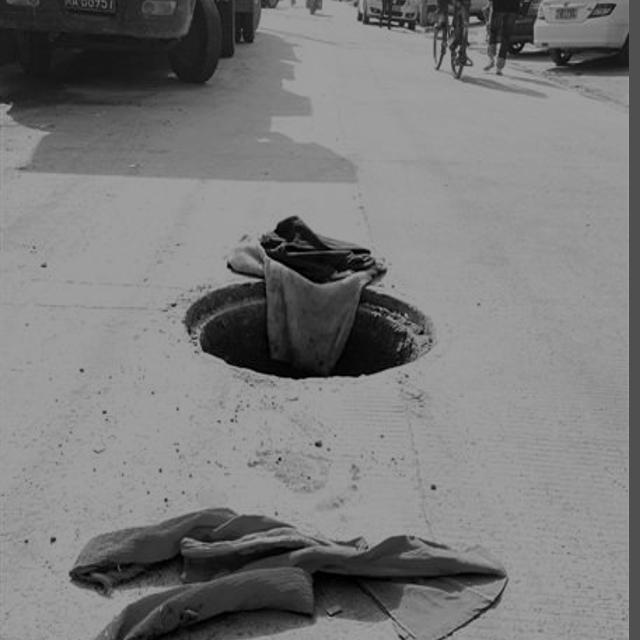lose: (175, 255, 449, 399)
